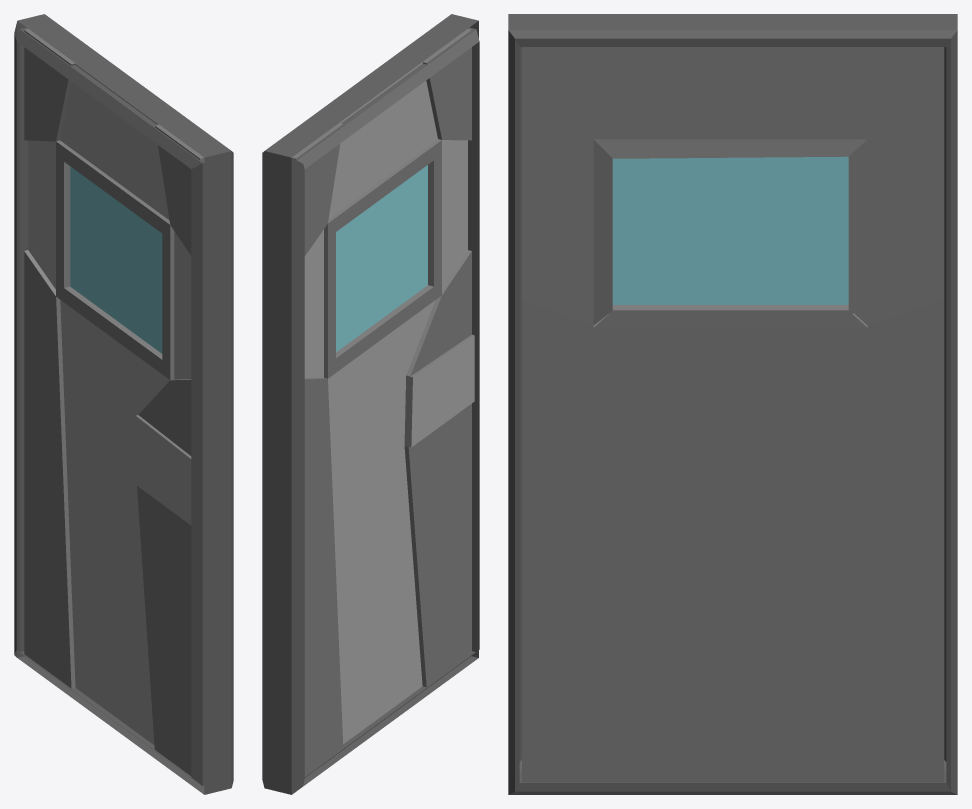
Rendered from Porte.fbx.
3 renders of one model, left to right at view 1: azimuth 30°, elevation 25°; view 2: azimuth 150°, elevation 25°; view 3: azimuth 270°, elevation 25°, orthographic. The views are drawn at different scales.
Visible parts, largest first — view 1: Plane, Cube, Plane.001; view 2: Plane, Cube, Plane.001; view 3: Plane, Cube, Plane.001.
Boxes of the visible parts, x1,y1,x2,y2 form: Plane: [24, 29, 204, 775]; Cube: [14, 14, 233, 794]; Plane.001: [70, 166, 162, 353]; Plane: [292, 29, 474, 776]; Cube: [262, 14, 479, 794]; Plane.001: [336, 165, 427, 351]; Plane: [522, 47, 944, 782]; Cube: [508, 14, 957, 794]; Plane.001: [612, 156, 848, 304].
Size of the model in its own units: 40 by 620 by 330.
